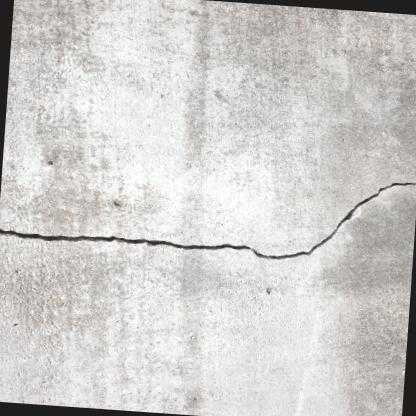crack: (0, 181, 416, 259)
